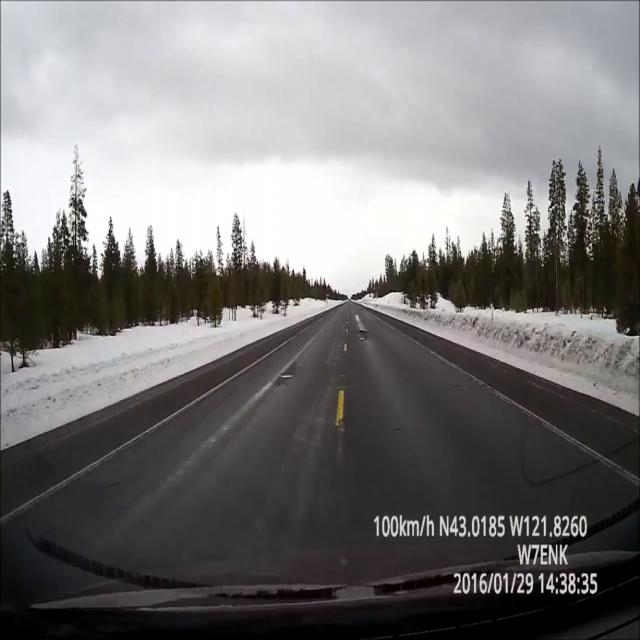Pothole: (357, 329, 369, 342), (280, 370, 293, 381)
